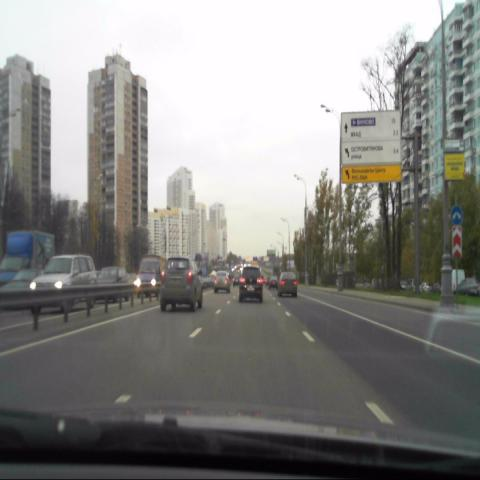4_2_3: (451, 205, 463, 225)
